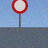sign: (12, 0, 28, 35)
